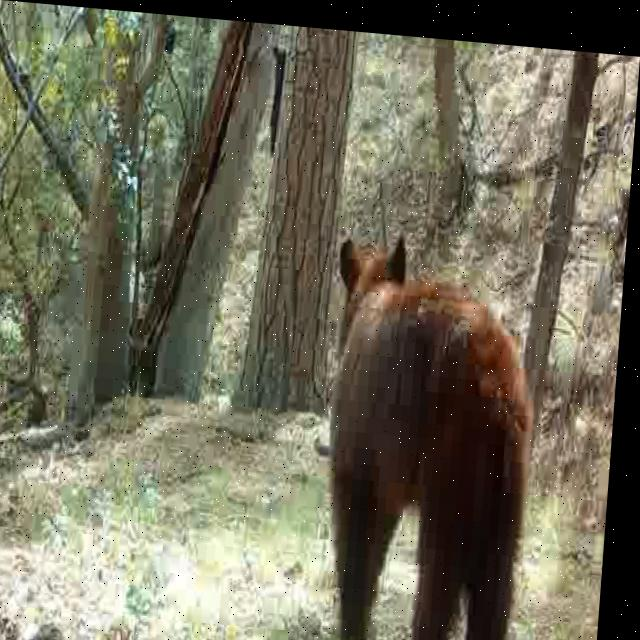bear face: (322, 221, 545, 640), (270, 39, 289, 126)
